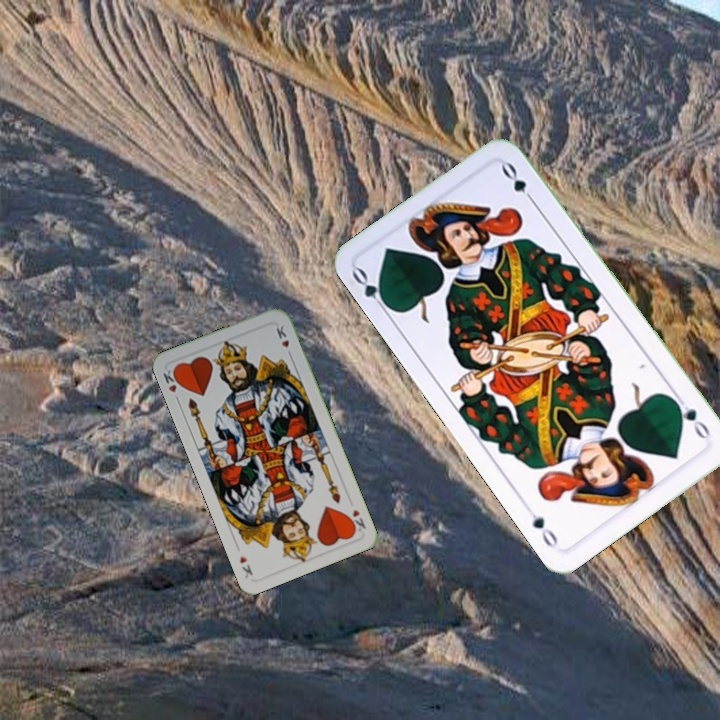GO: (348, 264, 394, 317), (669, 395, 713, 444)
HK: (159, 363, 184, 405), (344, 505, 368, 535)
